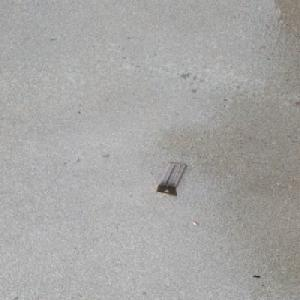MetalPart: (155, 162, 187, 196)
